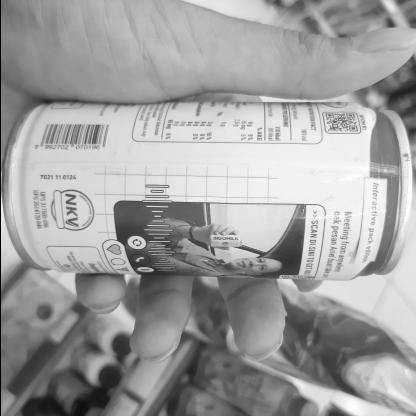alumunium_can: (0, 85, 413, 307)
